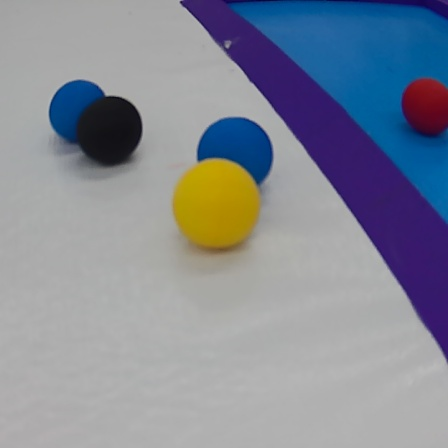black: (78, 95, 145, 168)
blue: (198, 114, 274, 194), (45, 77, 110, 149)
blue_aim: (169, 0, 448, 372)
red: (397, 77, 448, 144)
yellow: (169, 158, 264, 252)
